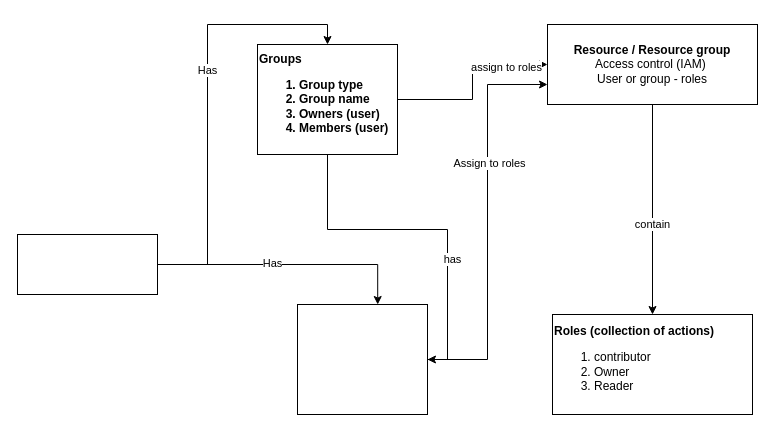
Some shapes in this 775 by 432 pixel diagram are drawn without their labels. The centre of each missing label's shape, as x and y in pixels:
Azure Active Directory: (87,264)
Users email display name password: (362,359)
